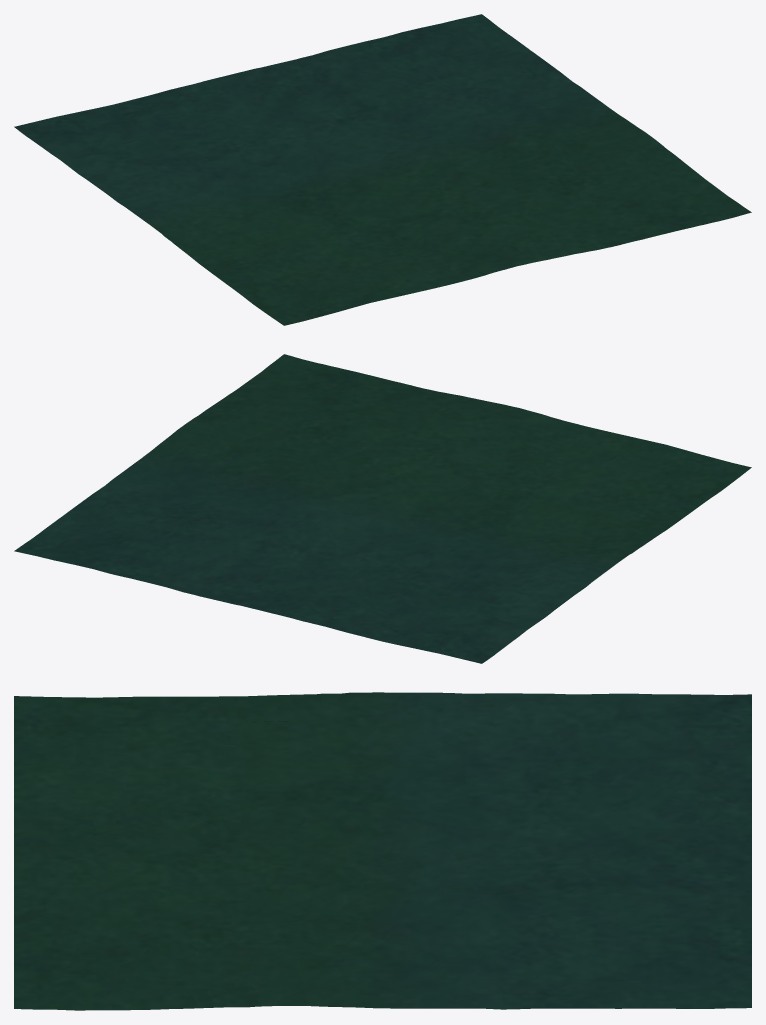
The picture shows the model from 3 angles, top to bottom: view 1: azimuth 30°, elevation 25°; view 2: azimuth 150°, elevation 25°; view 3: azimuth 270°, elevation 25°; orthographic projection. The views are drawn at different scales.
Bounding box in the file's own units: 104 × 1.11 × 104.
3 materials, 3 textured.
